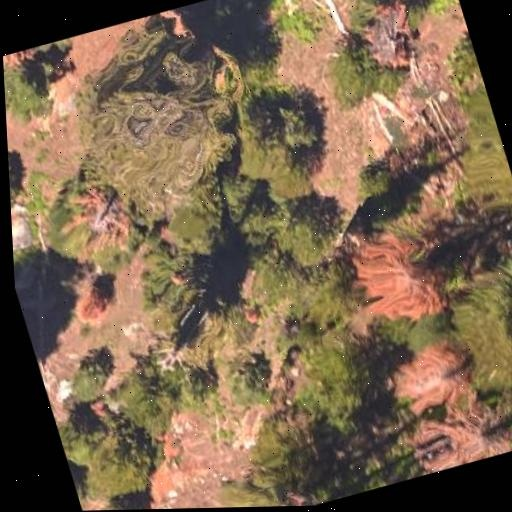tree-top: (48, 10, 271, 229), (229, 183, 377, 334), (219, 77, 349, 217), (278, 320, 403, 443), (98, 339, 231, 442), (433, 259, 512, 415), (59, 403, 172, 511), (431, 94, 512, 229), (153, 166, 245, 268), (311, 436, 436, 504), (312, 26, 403, 113), (200, 440, 311, 508), (210, 336, 291, 418), (2, 45, 64, 129), (55, 337, 128, 407), (439, 26, 485, 94), (7, 137, 40, 217), (83, 484, 154, 511), (403, 0, 462, 21)
